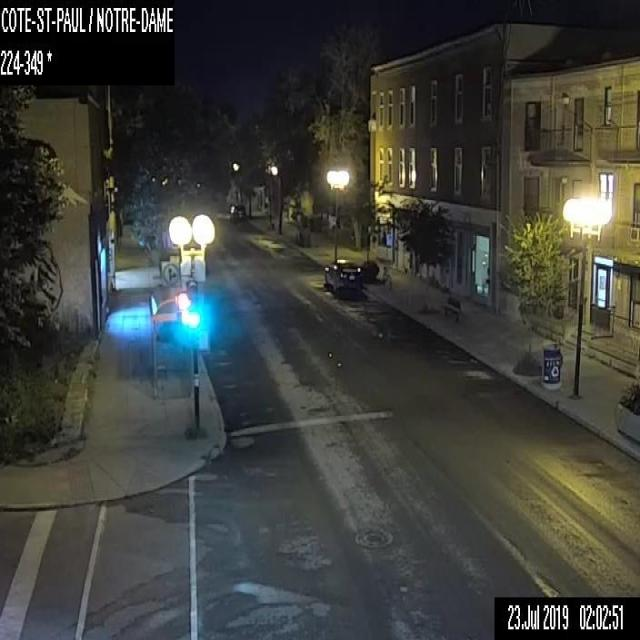vehicle: (322, 257, 362, 295), (229, 203, 246, 222)
